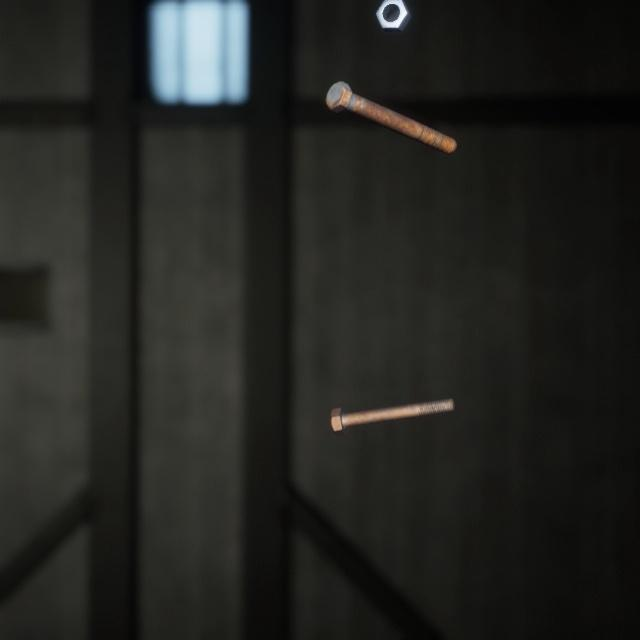bolt: (321, 65, 461, 146), (326, 374, 459, 421)
nut: (371, 0, 416, 29)
